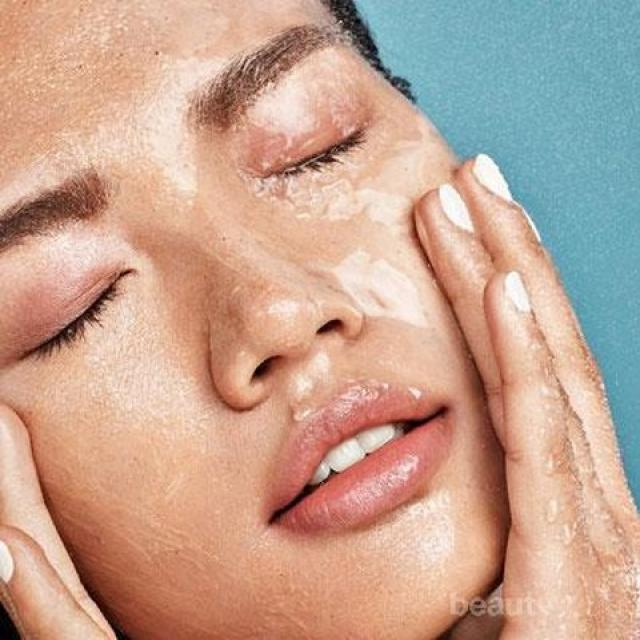Oily-Skin: (318, 240, 445, 315), (121, 104, 212, 200), (238, 302, 326, 392), (378, 101, 462, 174)
